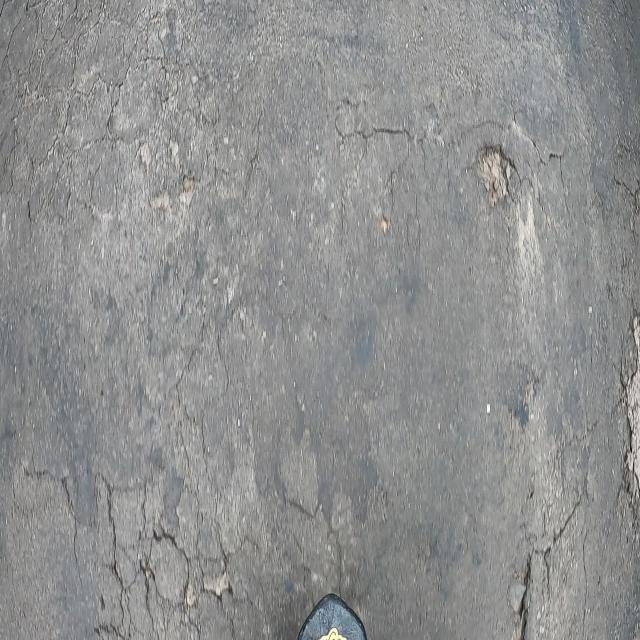Lubang: (476, 147, 511, 207)
